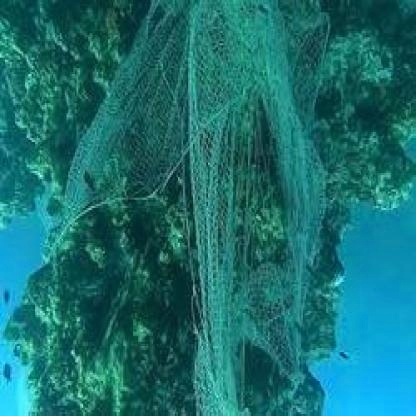net: (75, 2, 324, 416)
